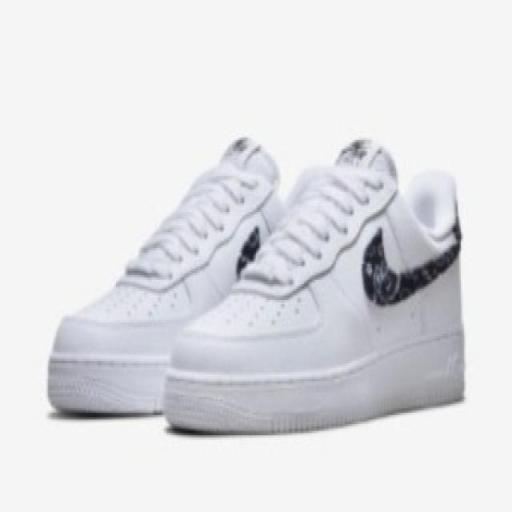Nike: (357, 225, 461, 307)
